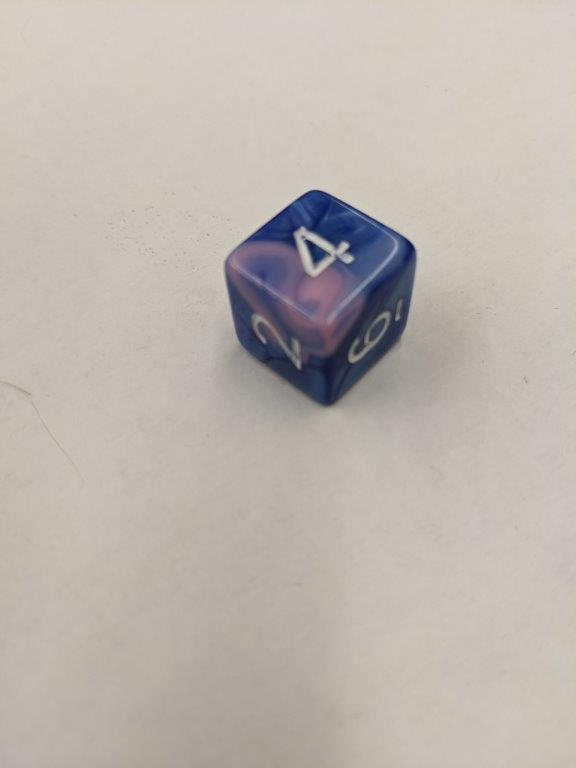d6-4: (221, 185, 420, 408)
